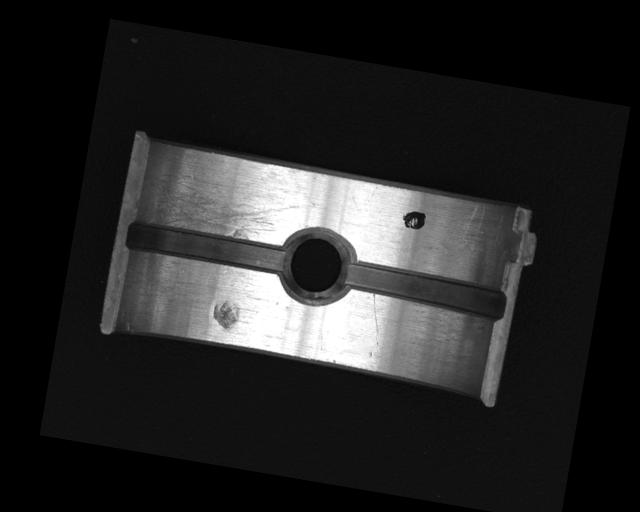blot: (400, 208, 427, 231)
bruise: (210, 297, 241, 331)
gap: (337, 258, 509, 323), (124, 218, 290, 278)
hole: (273, 223, 356, 311)
nick: (365, 293, 387, 347)
scratch: (137, 165, 303, 248)
